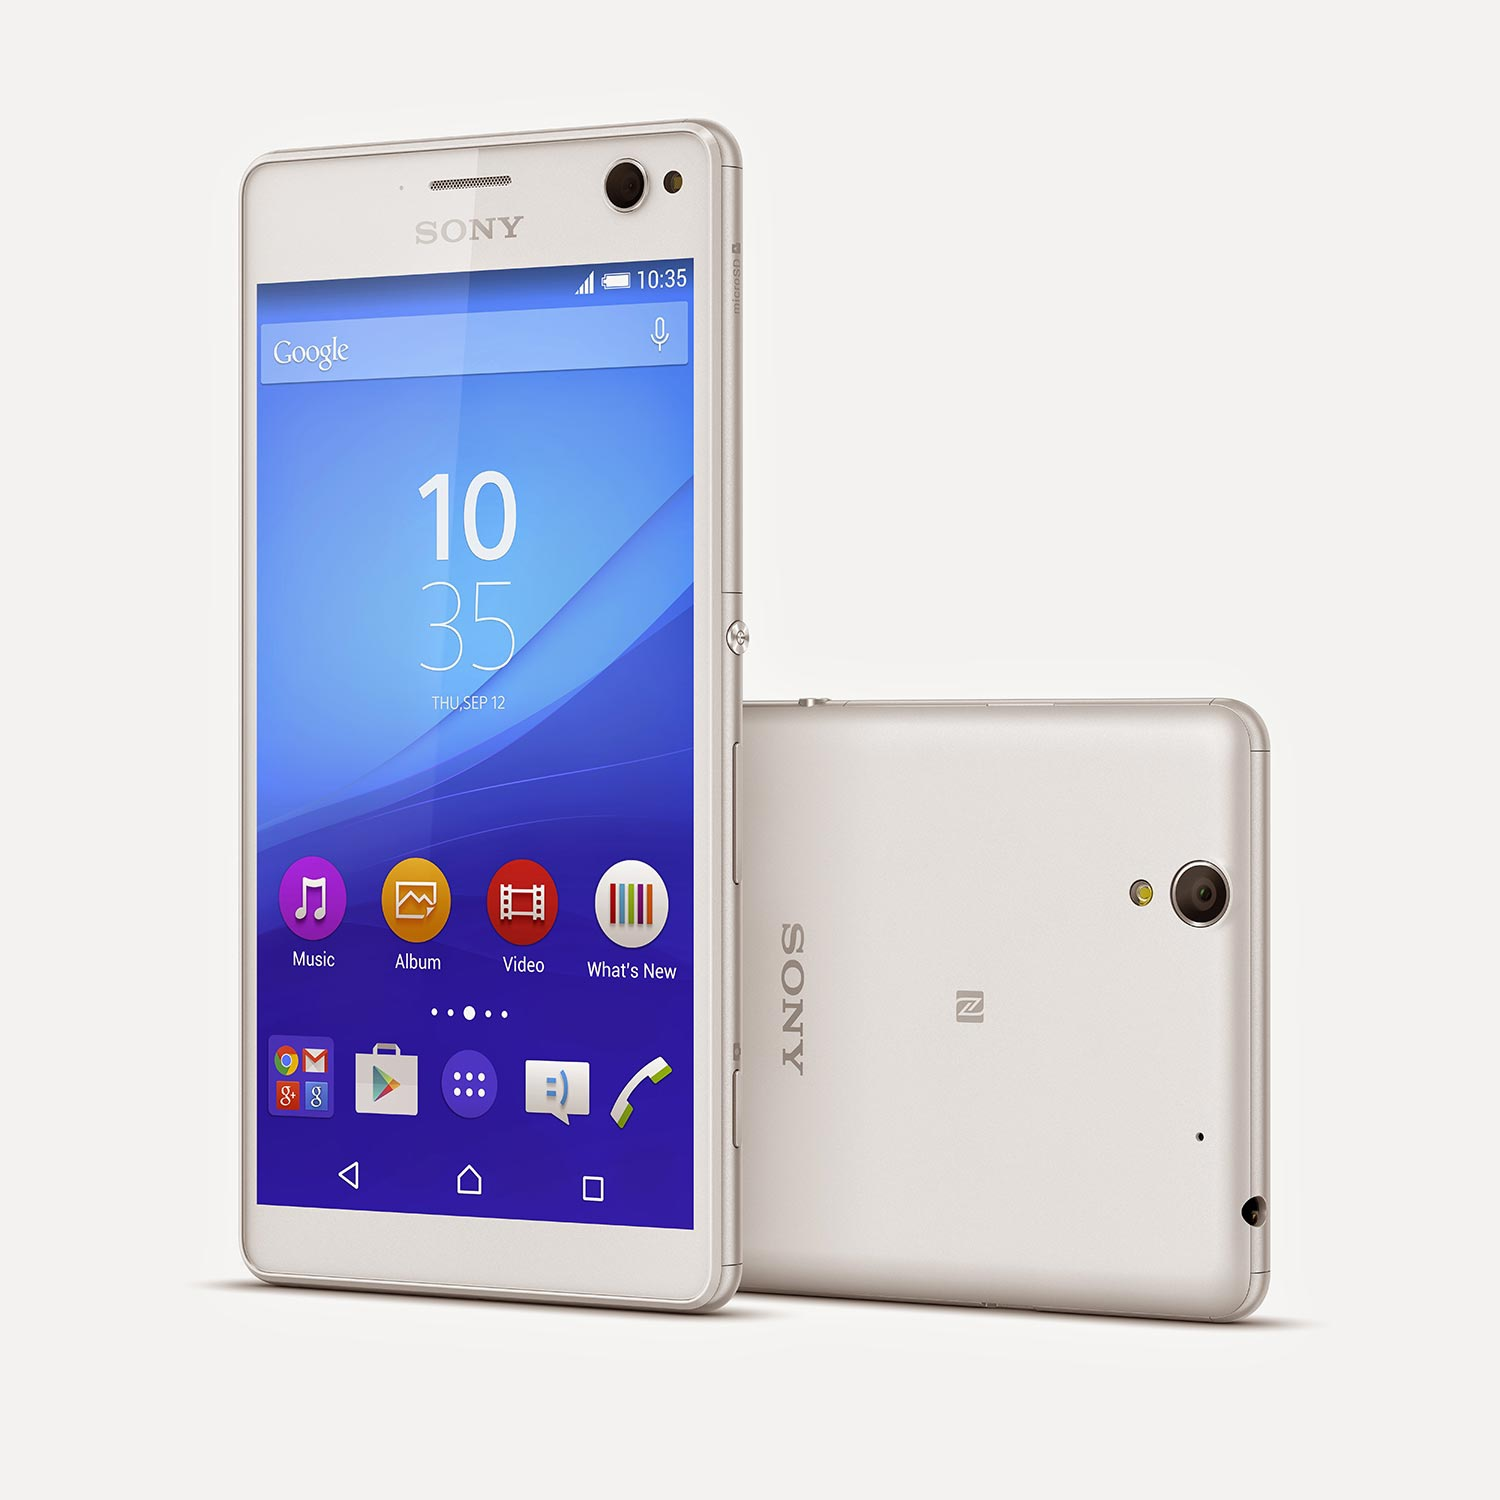smartphone: (240, 120, 749, 1313), (742, 701, 1271, 1323)
